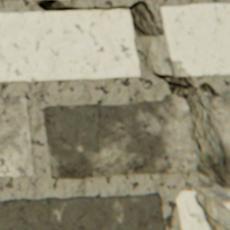brick: (0, 8, 139, 80), (0, 192, 165, 229), (157, 3, 229, 75), (0, 96, 34, 176)
broken_brick: (42, 93, 196, 177), (200, 92, 229, 173), (175, 189, 208, 229), (215, 189, 229, 227)
crack: (108, 1, 229, 229), (34, 0, 79, 11)
